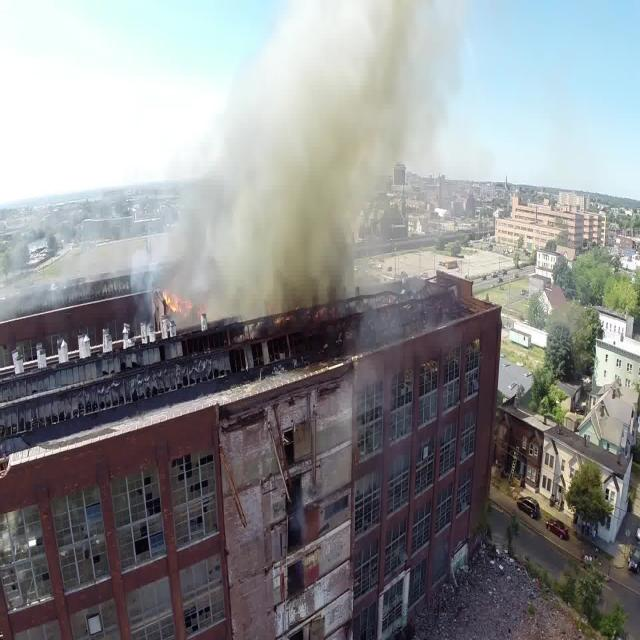Smoke: (191, 2, 460, 334)
